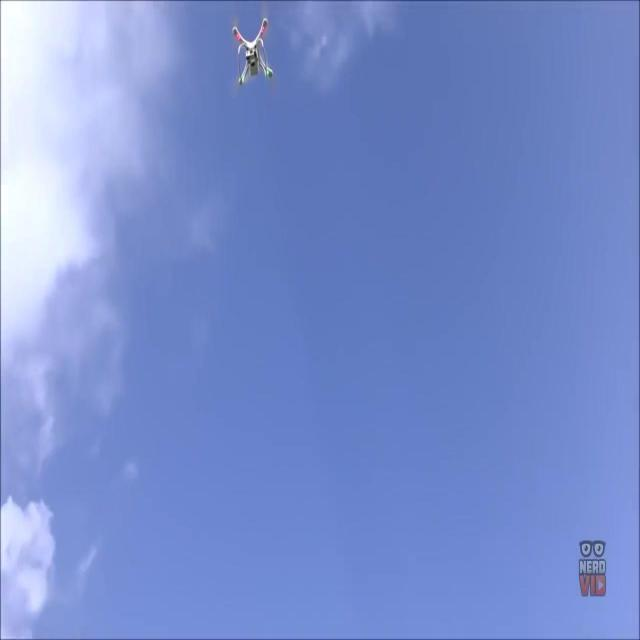drone: (227, 17, 274, 87)
